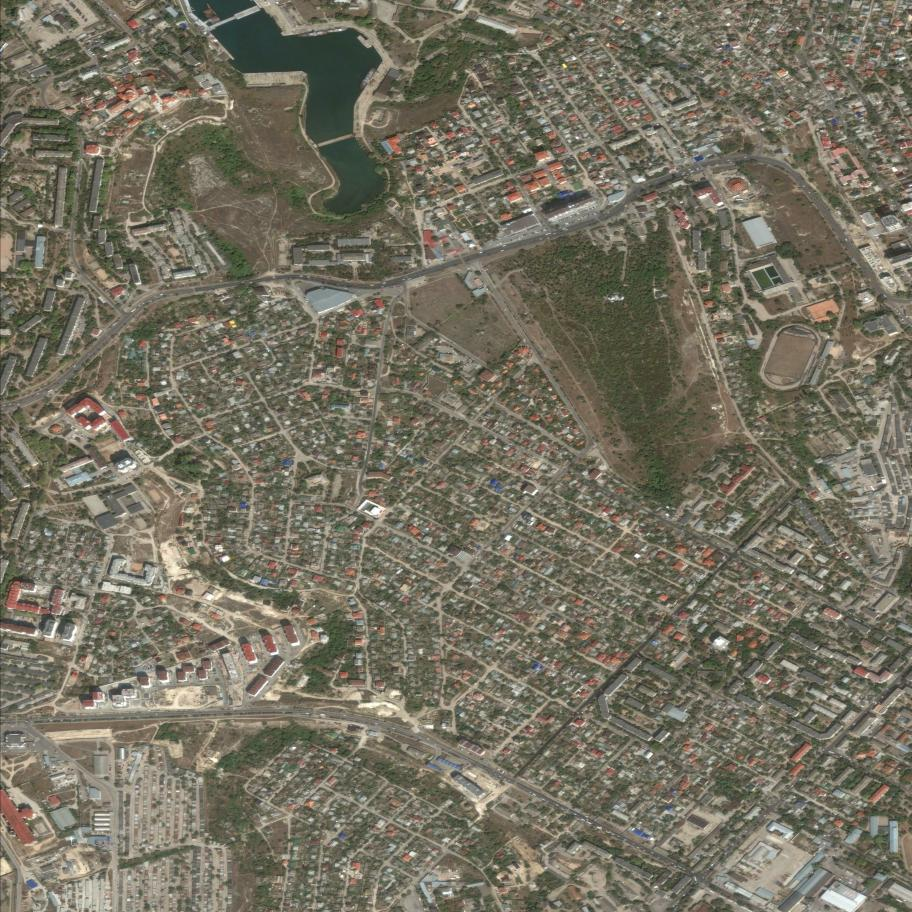large-vehicle: (869, 479, 875, 485), (131, 308, 136, 313), (865, 484, 869, 490), (629, 501, 635, 505), (47, 389, 53, 393), (597, 826, 603, 830), (828, 751, 835, 754), (863, 484, 866, 490), (545, 232, 551, 235), (450, 877, 456, 880), (883, 294, 887, 298), (850, 482, 855, 485), (478, 251, 483, 254), (320, 714, 327, 716), (91, 53, 95, 56), (810, 870, 813, 874), (454, 875, 460, 877), (542, 798, 546, 801), (581, 818, 585, 821), (452, 349, 455, 353), (22, 897, 28, 899), (500, 250, 505, 252), (50, 167, 55, 169), (52, 766, 57, 768), (585, 815, 588, 818), (799, 778, 802, 781), (73, 365, 76, 368), (455, 352, 458, 355), (370, 284, 374, 286), (299, 275, 303, 277), (502, 245, 506, 247), (159, 294, 163, 296), (71, 425, 73, 429), (382, 282, 386, 284), (562, 228, 566, 230), (905, 316, 909, 318), (621, 228, 625, 230), (52, 765, 56, 767), (22, 895, 29, 896), (80, 158, 82, 161), (224, 874, 226, 877), (22, 894, 27, 895), (22, 899, 27, 900), (436, 349, 440, 350), (306, 713, 310, 714)
ship: (358, 66, 377, 91), (202, 6, 222, 28), (297, 30, 327, 38), (327, 27, 348, 33), (206, 3, 211, 9)
small-vehicle: (407, 277, 412, 281), (806, 767, 810, 771), (430, 760, 434, 764), (454, 236, 457, 240), (136, 472, 139, 476), (720, 547, 724, 550), (599, 826, 603, 829), (608, 831, 612, 834), (621, 169, 624, 173), (60, 778, 64, 781), (83, 323, 87, 326), (30, 872, 34, 875), (53, 480, 57, 483), (766, 909, 770, 912), (630, 82, 633, 86), (743, 156, 747, 159), (88, 50, 92, 53), (676, 114, 680, 117), (418, 737, 422, 740), (360, 724, 365, 726), (690, 170, 695, 172), (153, 242, 156, 245), (131, 471, 134, 474), (135, 473, 138, 476), (138, 304, 141, 307), (141, 302, 144, 305), (587, 208, 590, 211), (556, 804, 559, 807), (525, 229, 528, 232), (541, 160, 544, 163), (525, 89, 528, 92), (518, 12, 521, 15), (607, 24, 610, 27), (672, 614, 675, 617), (625, 734, 628, 737), (518, 237, 521, 240), (576, 212, 579, 215), (561, 808, 564, 811), (610, 818, 613, 821), (556, 220, 559, 223), (607, 211, 610, 214), (622, 212, 625, 215), (624, 196, 627, 199), (22, 141, 25, 144), (82, 327, 85, 330), (64, 379, 67, 382), (591, 207, 594, 210), (17, 403, 20, 406), (81, 428, 84, 431), (65, 416, 68, 419), (89, 410, 92, 413), (53, 479, 56, 482), (643, 773, 646, 776), (889, 681, 892, 684), (849, 760, 852, 763), (778, 797, 781, 800), (819, 906, 822, 909), (830, 904, 833, 907), (658, 84, 661, 87), (867, 621, 870, 624), (822, 773, 825, 776), (810, 767, 813, 770), (697, 168, 700, 171), (872, 723, 875, 726), (900, 209, 903, 212), (673, 865, 676, 868), (890, 199, 893, 202), (102, 41, 105, 44), (669, 106, 672, 109), (817, 128, 820, 131), (698, 694, 701, 697), (677, 864, 680, 867), (448, 749, 451, 752), (460, 748, 463, 751), (467, 751, 470, 754), (494, 753, 497, 756), (494, 773, 497, 776), (459, 886, 462, 889), (83, 46, 86, 49), (764, 717, 767, 720), (679, 866, 682, 869), (471, 905, 474, 908), (723, 582, 726, 585), (818, 598, 821, 601), (784, 535, 787, 538), (778, 508, 781, 511), (672, 904, 675, 907), (774, 809, 777, 812), (667, 905, 670, 908), (705, 853, 708, 856), (758, 801, 761, 804), (731, 843, 734, 846), (272, 277, 276, 279), (614, 27, 618, 29), (611, 833, 615, 835), (620, 214, 624, 216), (2, 404, 6, 406), (8, 403, 12, 405), (65, 605, 69, 607), (392, 728, 396, 730), (875, 224, 879, 226), (903, 38, 907, 40), (682, 172, 686, 174), (428, 888, 430, 892), (130, 767, 133, 769), (169, 223, 171, 226), (441, 243, 444, 245), (402, 279, 405, 281), (416, 285, 419, 287), (439, 263, 442, 265), (489, 243, 492, 245), (521, 235, 523, 238), (497, 243, 499, 246), (500, 242, 502, 245), (128, 293, 130, 296), (170, 294, 173, 296), (157, 296, 160, 298), (188, 714, 191, 716), (138, 702, 141, 704), (147, 399, 149, 402), (156, 422, 158, 425), (171, 388, 174, 390), (154, 295, 157, 297), (508, 779, 510, 782), (136, 716, 139, 718), (643, 639, 646, 641), (609, 99, 611, 102), (681, 529, 684, 531), (535, 231, 537, 234), (566, 811, 569, 813), (565, 222, 567, 225), (540, 238, 543, 240), (547, 237, 550, 239), (535, 208, 537, 211), (534, 206, 536, 209), (538, 230, 540, 233), (793, 781, 795, 784), (594, 206, 596, 209), (504, 779, 507, 781), (623, 201, 625, 204), (123, 762, 126, 764), (100, 0, 102, 3), (594, 819, 597, 821), (540, 797, 543, 799), (574, 813, 577, 815), (34, 750, 36, 753), (499, 776, 502, 778), (113, 323, 116, 325), (89, 160, 92, 162), (50, 181, 53, 183), (112, 324, 115, 326), (85, 799, 87, 802), (29, 748, 31, 751), (1, 742, 3, 745), (546, 800, 549, 802), (69, 776, 71, 779), (32, 743, 35, 745), (11, 726, 14, 728), (38, 807, 41, 809), (109, 851, 112, 853), (43, 392, 46, 394), (40, 619, 42, 622), (41, 631, 43, 634), (19, 650, 21, 653), (624, 839, 627, 841), (875, 595, 878, 597), (808, 908, 811, 910), (845, 876, 848, 878), (829, 778, 832, 780), (873, 544, 875, 547), (866, 705, 869, 707), (893, 677, 896, 679), (886, 688, 888, 691), (901, 540, 904, 542), (690, 263, 692, 266), (696, 167, 699, 169), (653, 140, 656, 142), (707, 165, 710, 167), (727, 159, 730, 161), (655, 110, 658, 112), (651, 852, 654, 854), (745, 122, 748, 124), (751, 153, 754, 155), (701, 172, 704, 174), (695, 180, 698, 182), (698, 179, 700, 182), (896, 310, 899, 312), (375, 723, 378, 725), (694, 108, 697, 110), (843, 120, 845, 123), (816, 128, 818, 131), (688, 16, 691, 18), (671, 51, 674, 53), (688, 169, 691, 171), (682, 174, 685, 176), (434, 744, 437, 746), (262, 649, 264, 652), (450, 870, 452, 873), (457, 888, 459, 891), (260, 665, 262, 668), (785, 728, 788, 730), (732, 700, 735, 702), (70, 644, 72, 647), (66, 643, 68, 646), (177, 63, 180, 65), (305, 298, 308, 300), (306, 300, 309, 302), (305, 302, 307, 305), (336, 283, 339, 285), (720, 689, 722, 692), (749, 710, 752, 712), (258, 665, 261, 667), (779, 725, 782, 727), (790, 730, 792, 733), (671, 862, 674, 864), (715, 650, 718, 652), (680, 553, 682, 556), (779, 559, 782, 561), (647, 184, 650, 186), (655, 181, 658, 183), (707, 702, 709, 705), (709, 866, 711, 869), (707, 868, 710, 870), (715, 860, 718, 862), (725, 852, 727, 855), (743, 832, 745, 835), (465, 243, 467, 245), (466, 244, 468, 246), (148, 404, 150, 406), (151, 408, 153, 410), (512, 239, 514, 241), (548, 159, 550, 161), (606, 153, 608, 155), (625, 182, 627, 184), (898, 363, 900, 365), (529, 791, 531, 793), (562, 137, 564, 139), (624, 199, 626, 201), (120, 717, 124, 718), (116, 16, 118, 18), (115, 871, 117, 873), (60, 720, 64, 721), (49, 720, 53, 721), (71, 719, 75, 720), (776, 799, 778, 801), (850, 879, 852, 881), (870, 731, 872, 733), (665, 150, 667, 152), (729, 162, 733, 163), (890, 382, 892, 384), (872, 165, 874, 167), (832, 97, 834, 99), (742, 193, 744, 195), (472, 754, 474, 756), (473, 755, 475, 757), (471, 905, 473, 907), (785, 582, 787, 584), (843, 307, 845, 309), (675, 903, 677, 905), (705, 870, 707, 872), (739, 837, 741, 839), (745, 831, 747, 833), (795, 780, 797, 782), (381, 286, 384, 287), (498, 238, 501, 239), (155, 714, 158, 715), (49, 195, 52, 196), (47, 211, 50, 212), (154, 825, 157, 826), (25, 721, 28, 722), (65, 783, 66, 786), (84, 799, 85, 802), (96, 801, 97, 804), (115, 838, 116, 841), (160, 868, 161, 871), (178, 865, 179, 868), (32, 745, 35, 746), (48, 718, 51, 719), (31, 721, 34, 722), (824, 155, 827, 156), (343, 715, 346, 716), (316, 880, 317, 883), (282, 712, 285, 713), (224, 878, 225, 881), (432, 898, 435, 899), (838, 322, 839, 325), (734, 248, 735, 251), (763, 907, 766, 908), (162, 281, 163, 283), (130, 295, 131, 297), (557, 204, 558, 206), (118, 764, 120, 765), (5, 751, 6, 753), (117, 797, 118, 799), (173, 816, 174, 818), (63, 784, 64, 786), (348, 884, 349, 886), (899, 540, 901, 541), (890, 376, 891, 378), (251, 524, 252, 526), (733, 238, 734, 240), (703, 877, 704, 879)
